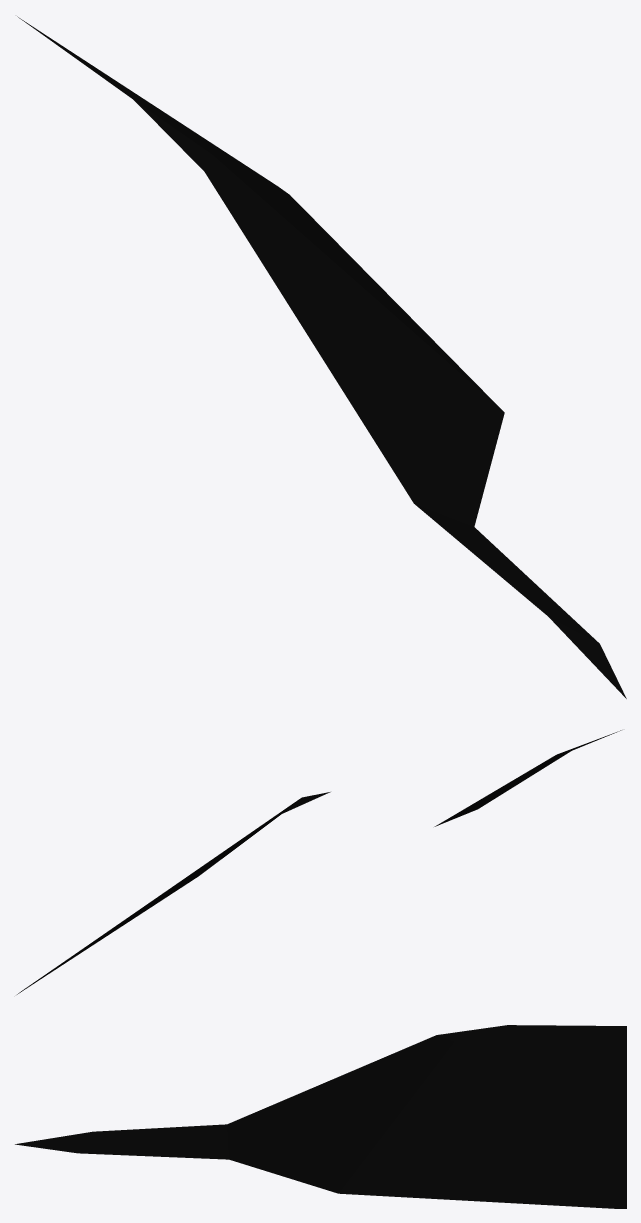
The picture shows the model from 3 angles, top to bottom: view 1: azimuth 30°, elevation 25°; view 2: azimuth 150°, elevation 25°; view 3: azimuth 270°, elevation 25°; orthographic projection. The views are drawn at different scales.
Size of the model in its own units: 0.312 by 0.2691 by 1.25.
1 material, 1 textured.
